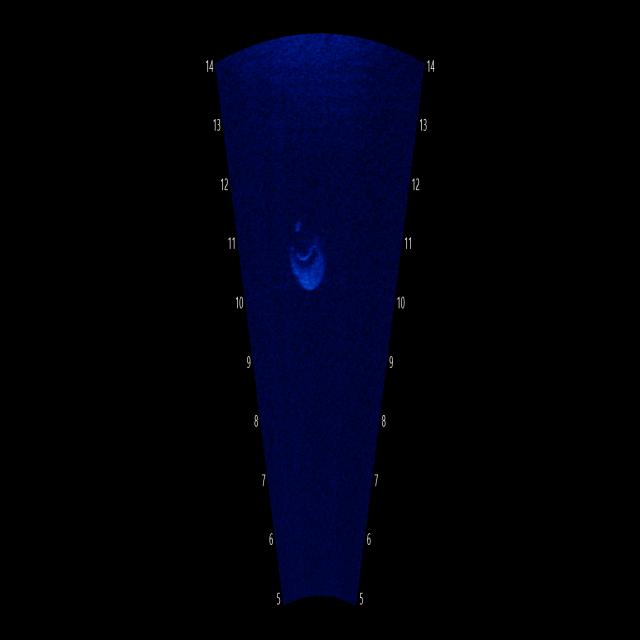circle: (285, 197, 337, 300)
